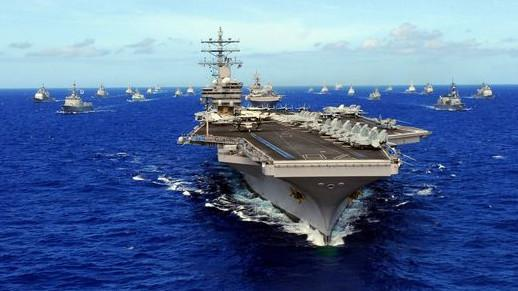warship: (185, 12, 426, 243)
